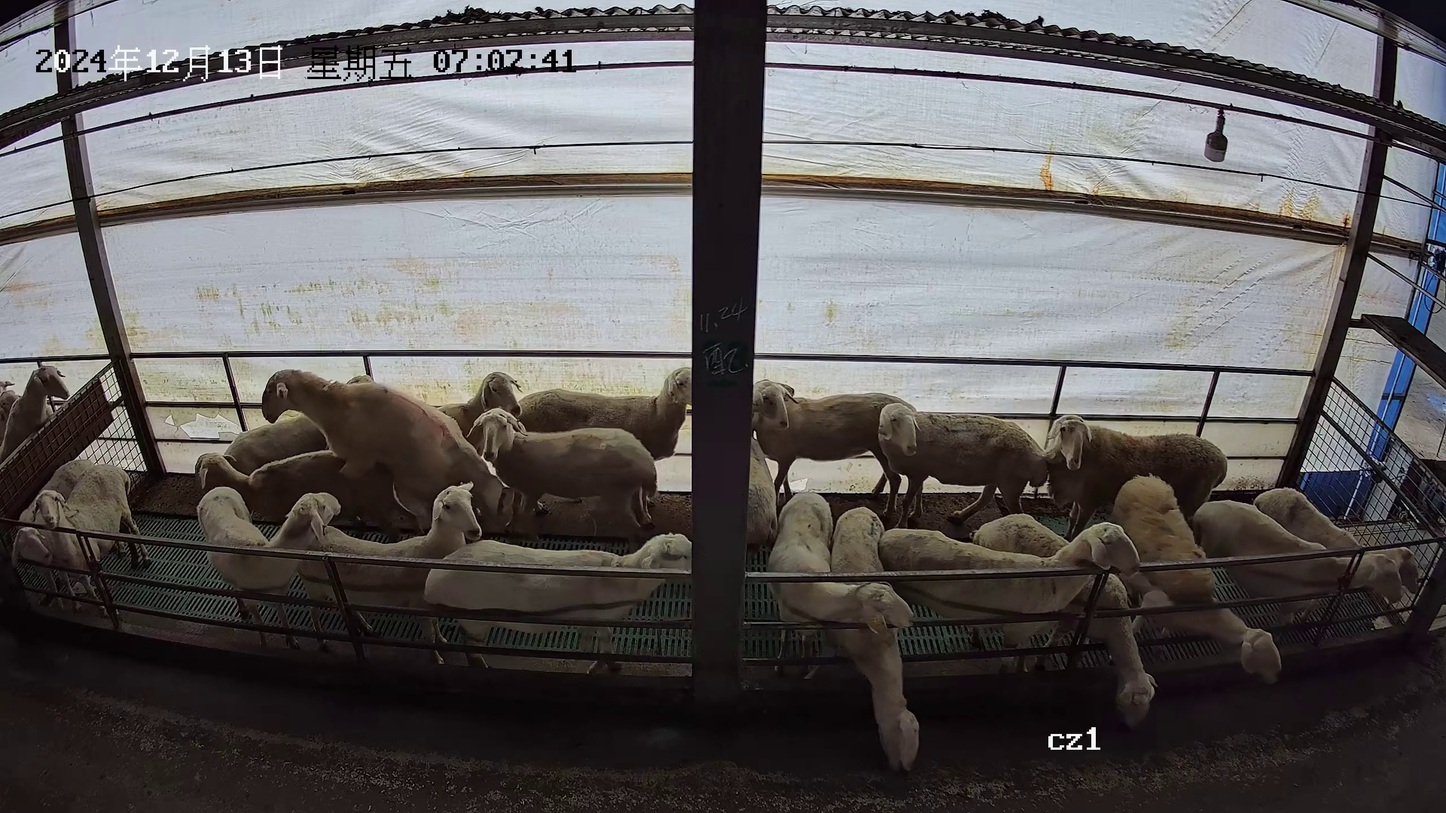Smounting: (189, 364, 496, 547)
mounted: (193, 447, 424, 543)
